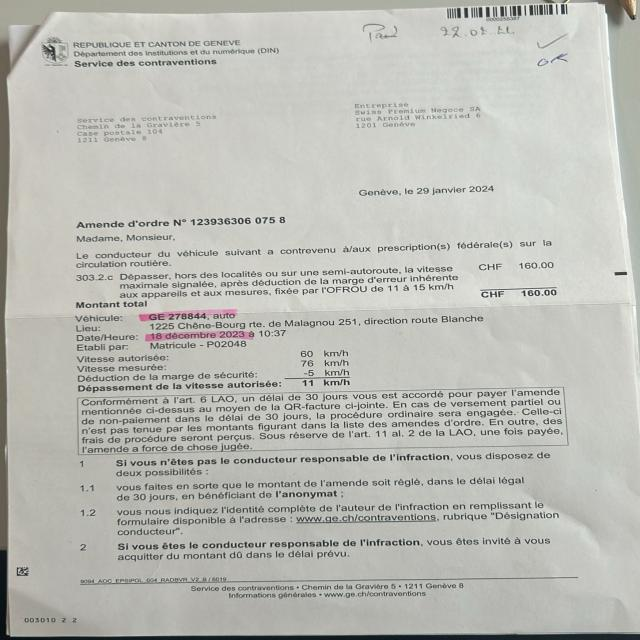paper-document-: (6, 5, 640, 633)
